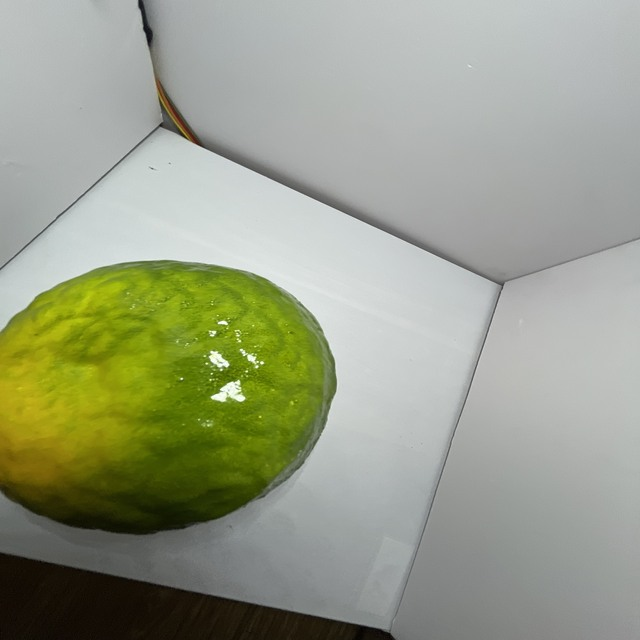Cam xanh: (0, 257, 346, 539)
